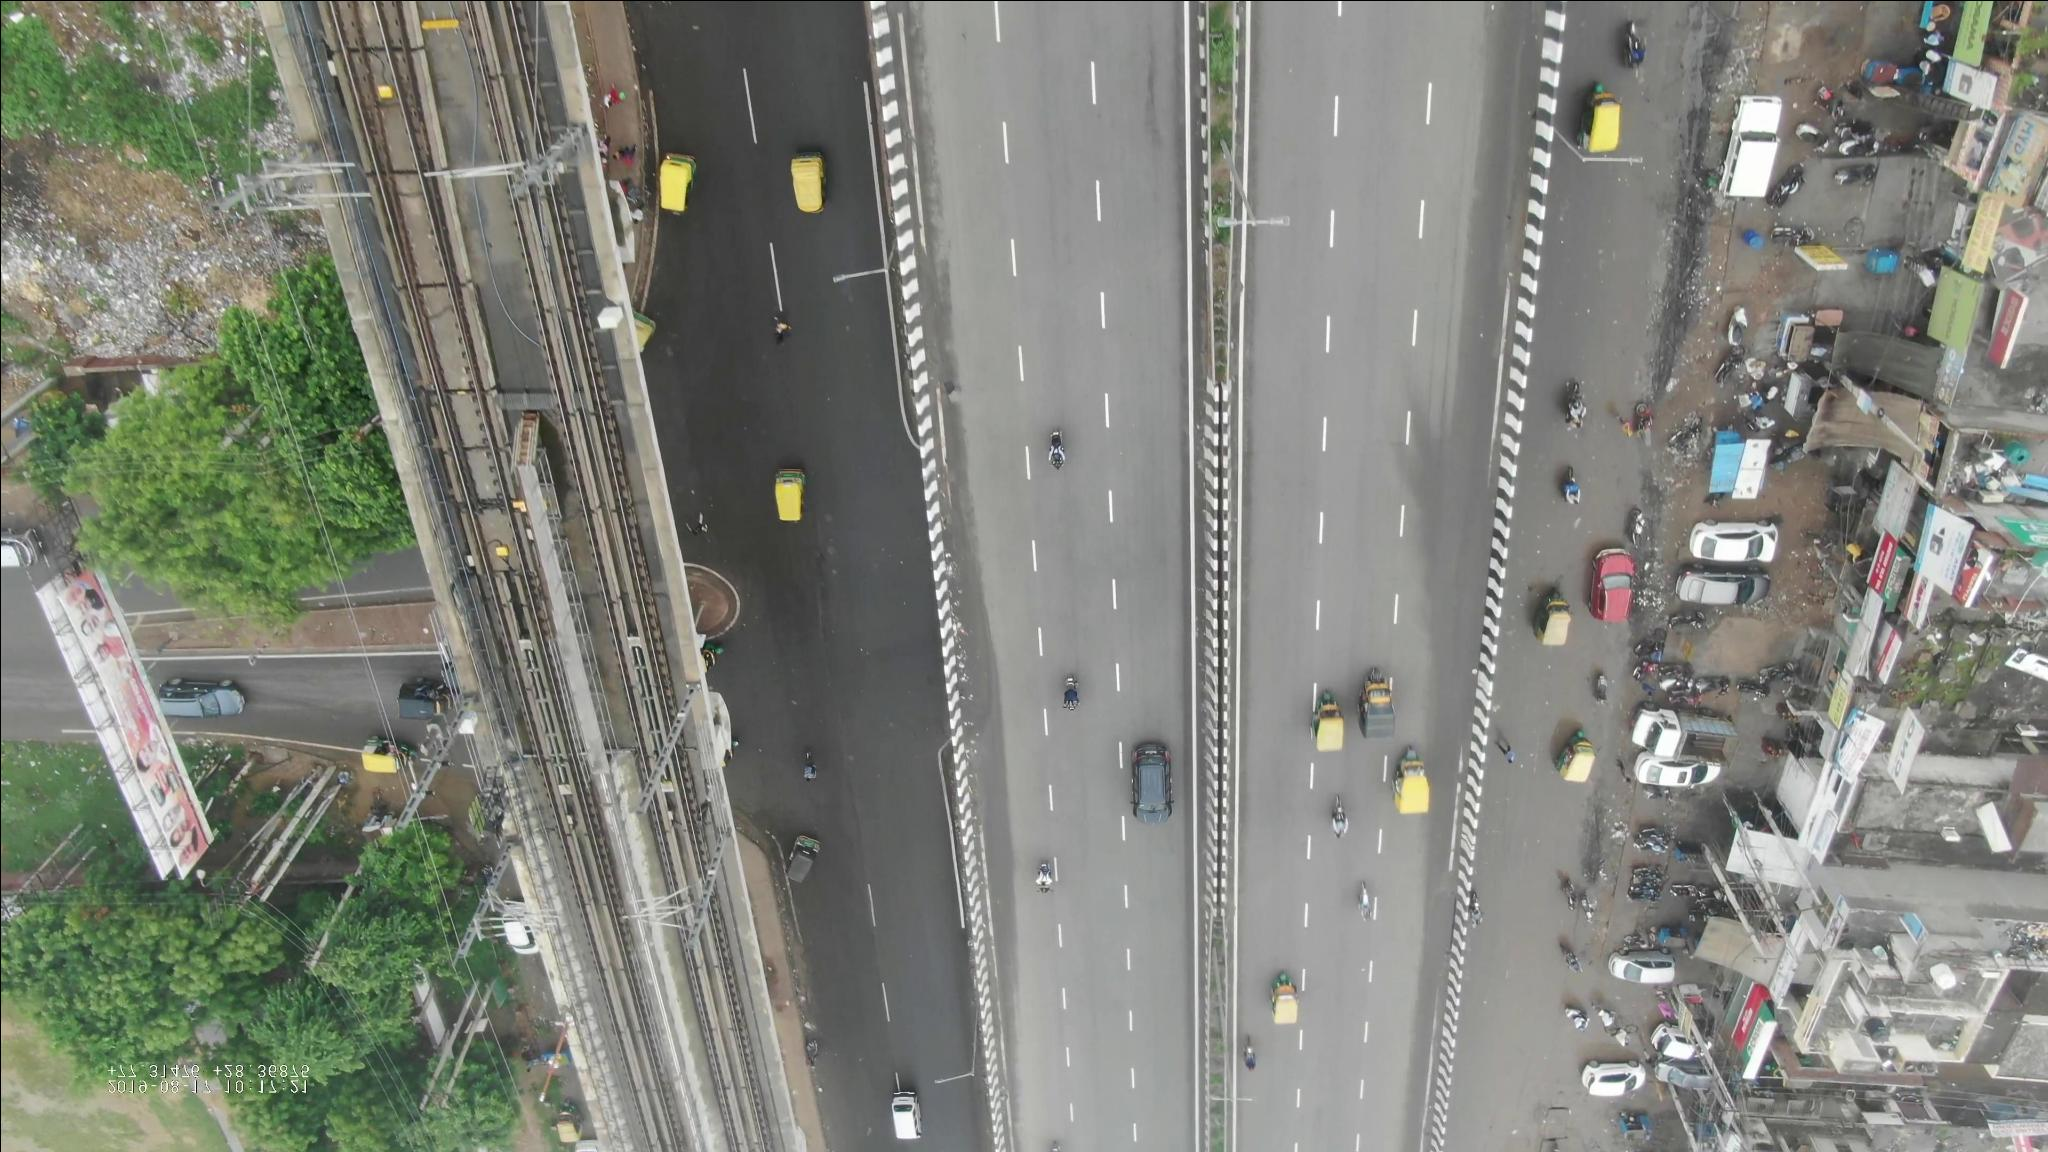Muddy_road: (1641, 101, 1717, 395), (1582, 789, 1620, 885)
